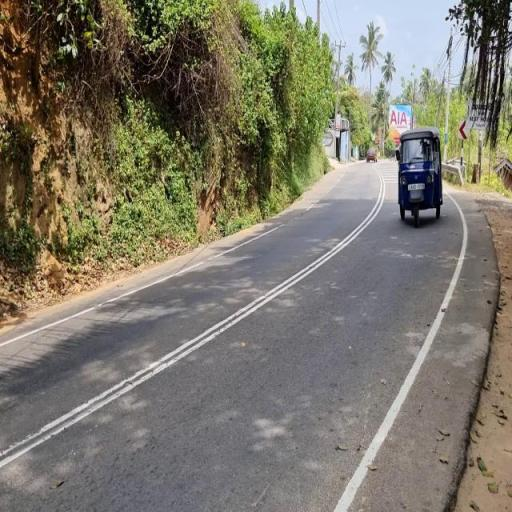double_white_line: (0, 164, 382, 470)
